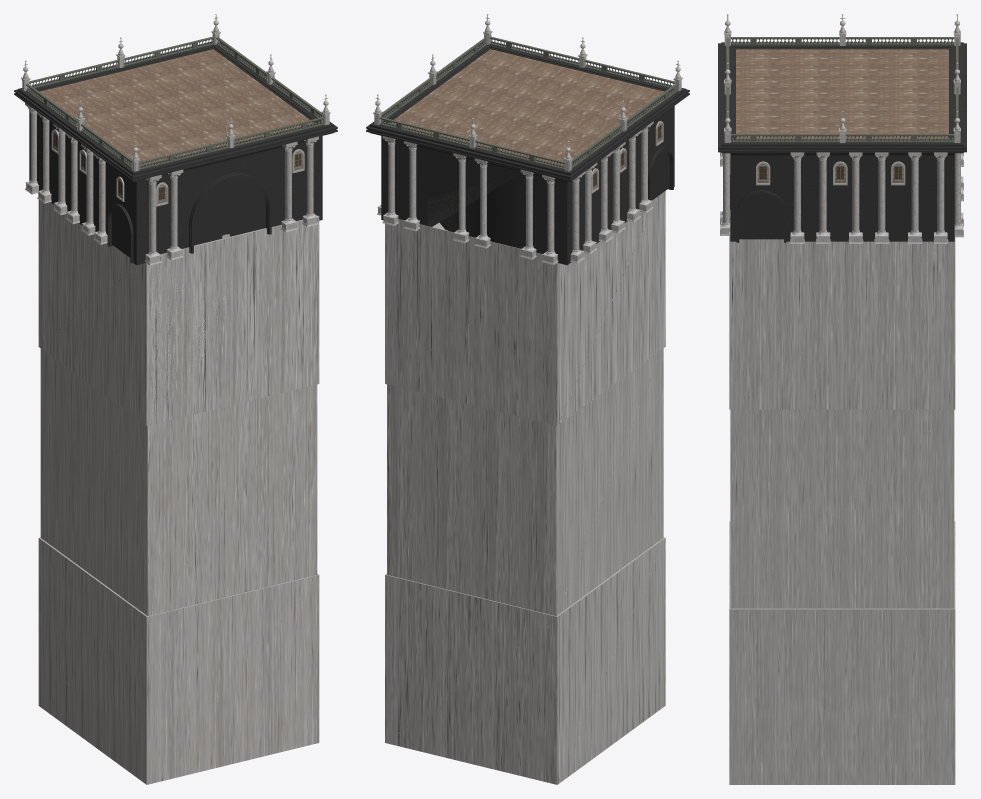
Rendered from Dungeon_Tower.fbx.
3 renders of one model, left to right at view 1: azimuth 30°, elevation 25°; view 2: azimuth 150°, elevation 25°; view 3: azimuth 270°, elevation 25°, orthographic. The views are drawn at different scales.
Visible parts, largest first — view 1: Floor, pCube2476, Floor__1_, column_column12, column_column12_1, column_column14, column_column15, column_column13, fence31, fence31_1, fence26_1, fence26; view 2: Floor, pCube2476, Floor__1_, column_column16, column_column17, column_column18, column_column13, column_column14, column_column15, fence31_1, fence26, fence31 (+1 smaller); view 3: Floor, pCube2476, Floor__1_, column_column13_1, column_column15_1, column_column14_1, fence26_2, fence31_3, fence26_3, fence31_2, column_column12_1, column_column17.
Part boxes in pixels (<box>): Floor: <box>38,200,319,784</box>; pCube2476: <box>14,42,337,265</box>; Floor__1_: <box>39,49,314,165</box>; column_column12: <box>145,169,183,265</box>; column_column12_1: <box>281,136,318,232</box>; column_column14: <box>81,144,107,244</box>; column_column15: <box>53,123,79,224</box>; column_column13: <box>25,103,51,203</box>; fence31: <box>124,36,214,66</box>; fence31_1: <box>234,117,323,146</box>; fence26_1: <box>139,140,228,169</box>; fence26: <box>29,59,118,89</box>; Floor: <box>385,191,665,784</box>; pCube2476: <box>366,42,689,265</box>; Floor__1_: <box>389,49,664,165</box>; column_column16: <box>520,169,558,264</box>; column_column17: <box>382,136,419,231</box>; column_column18: <box>453,153,490,248</box>; column_column13: <box>570,162,597,263</box>; column_column14: <box>626,121,653,222</box>; column_column15: <box>598,142,625,242</box>; fence31_1: <box>489,36,579,66</box>; fence26: <box>475,140,564,169</box>; fence31: <box>379,117,469,146</box>; Floor: <box>729,210,955,784</box>; pCube2476: <box>718,42,966,242</box>; Floor__1_: <box>736,49,948,139</box>; column_column13_1: <box>907,152,948,243</box>; column_column15_1: <box>848,152,889,243</box>; column_column14_1: <box>790,152,830,243</box>; fence26_2: <box>845,134,954,142</box>; fence31_3: <box>731,37,839,45</box>; fence26_3: <box>845,37,954,45</box>; fence31_2: <box>731,134,839,142</box>; column_column12_1: <box>720,153,730,235</box>; column_column17: <box>954,153,963,237</box>.
Bounding box in the file's own units: 1770 × 5345 × 1781.
7 materials, 6 textured.
